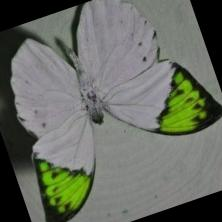butterfly: (11, 0, 222, 222)
